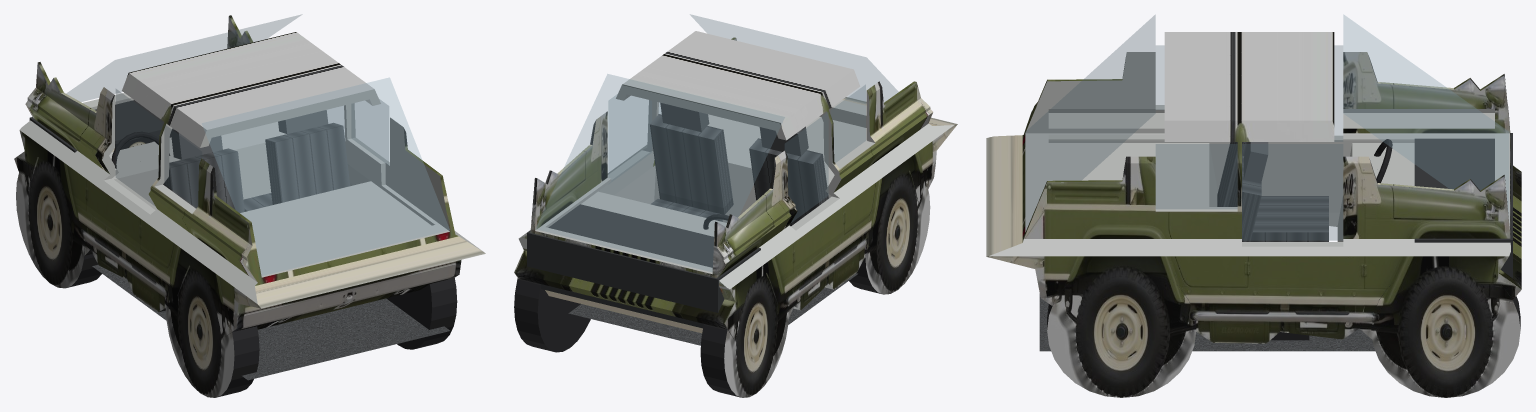
File: utv.glb
3 renders of one model, left to right at view 1: azimuth 30°, elevation 25°; view 2: azimuth 150°, elevation 25°; view 3: azimuth 270°, elevation 25°, orthographic. The views are drawn at different scales.
Parts seen in each view (by area): view 1: utv, utv_cabin, wheel_BL, wheel_FL, wheel_BR; view 2: utv, utv_cabin, wheel_FL, wheel_BL, wheel_FR; view 3: utv, utv_cabin, wheel_FR, wheel_BR.
Part boxes in pixels (x1,y1,x2,y2): utv: [14, 15, 485, 337]; utv_cabin: [29, 14, 449, 380]; wheel_BL: [165, 266, 259, 397]; wheel_FL: [16, 158, 101, 288]; wheel_BR: [386, 278, 457, 349]; utv: [514, 31, 957, 340]; utv_cabin: [527, 14, 898, 345]; wheel_FL: [700, 274, 788, 397]; wheel_BL: [849, 171, 930, 294]; wheel_FR: [514, 278, 590, 352]; utv: [986, 32, 1521, 343]; utv_cabin: [1025, 15, 1512, 351]; wheel_FR: [1371, 266, 1520, 397]; wheel_BR: [1047, 266, 1196, 397].
Size of the model in its own units: 1.58 by 1.7 by 3.
Materials: 12 (4 with a texture image).
